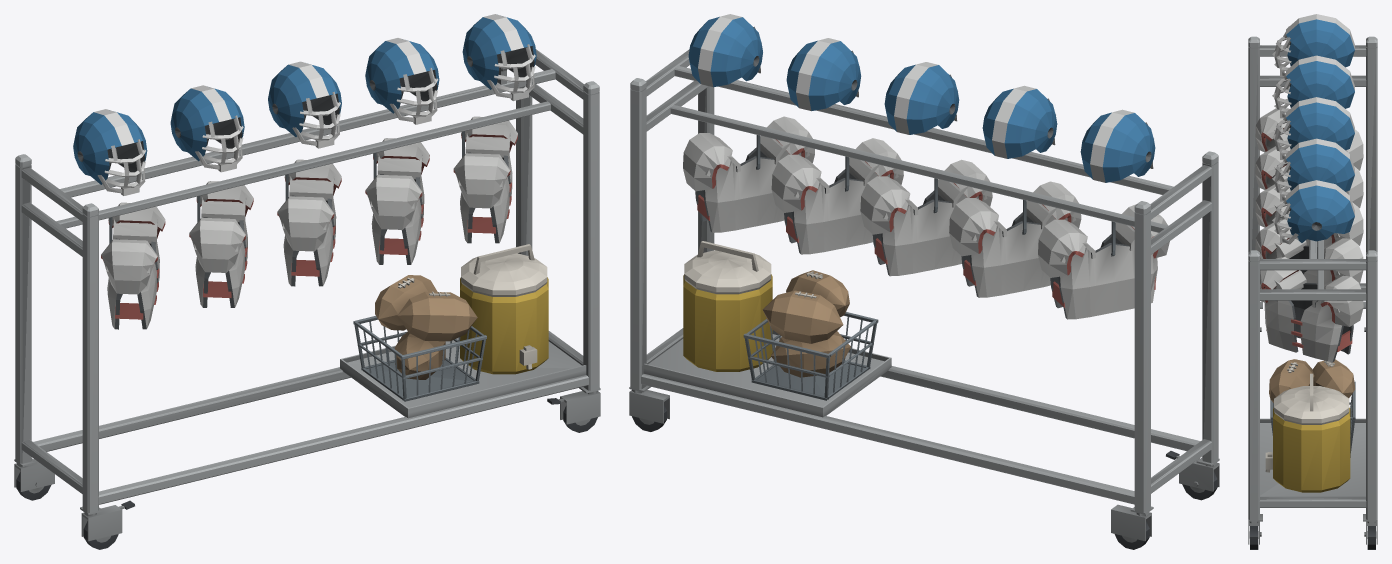
Rendered from rack.glb.
The picture shows the model from 3 angles, left to right: view 1: azimuth 30°, elevation 25°; view 2: azimuth 150°, elevation 25°; view 3: azimuth 270°, elevation 25°; orthographic projection. The views are drawn at different scales.
Parts seen in each view (by area): view 1: rack; view 2: rack; view 3: rack.
Part boxes in pixels (x1,y1,x2,y2): rack: [14, 14, 600, 549]; rack: [629, 14, 1219, 549]; rack: [1248, 14, 1377, 549].
Bounding box in the file's own units: 2.6 × 1.92 × 0.65.
